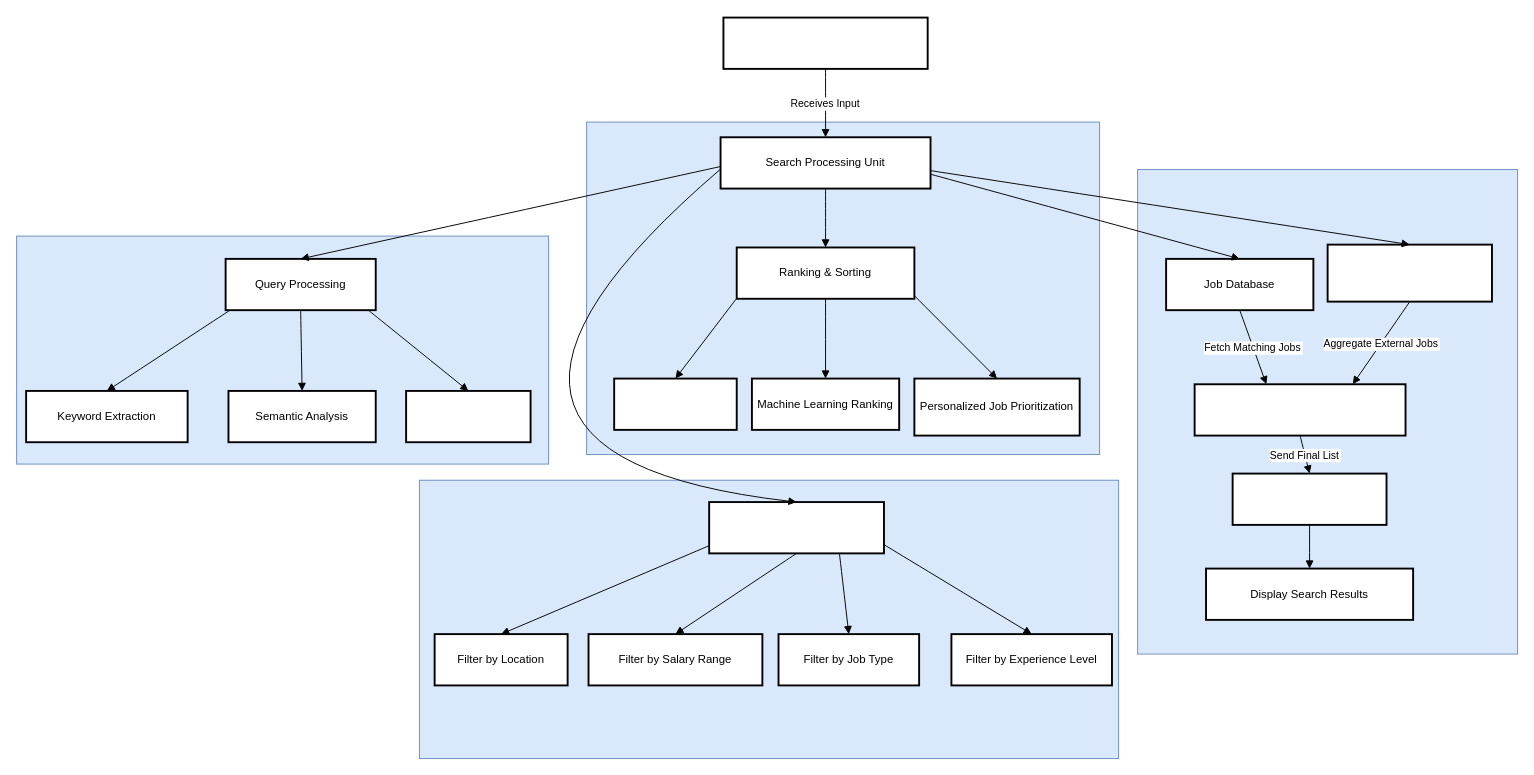
Image size: 1534x775. Some labels were removed from this diagram. Each missing label, with the centre of its shape:
"External Job API Integration" belongs at (1409,272).
"Filter Application" belongs at (796,527).
"Job Listings Processing" belongs at (1299,409).
"Job Searching Module" belongs at (825,42).
"Relevance Scoring" belongs at (675,403).
"Spell Correction" belongs at (468,416).
"User Interface" belongs at (1309,498).
